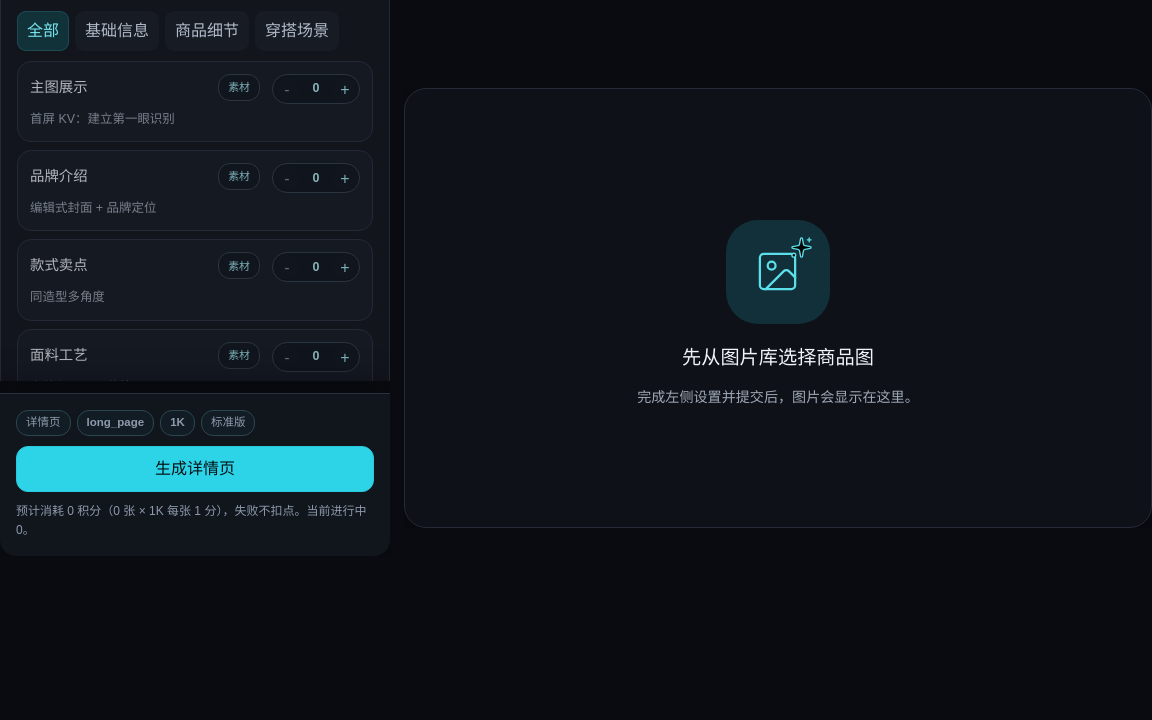
Test: Workspace › asks for a product image before selecting detail page modules
(page scrolled)
Click the button with aria-label "品牌介绍 编辑式封面 + 品牌定位".
click(59, 176)  # box 17,150 -> 373,231
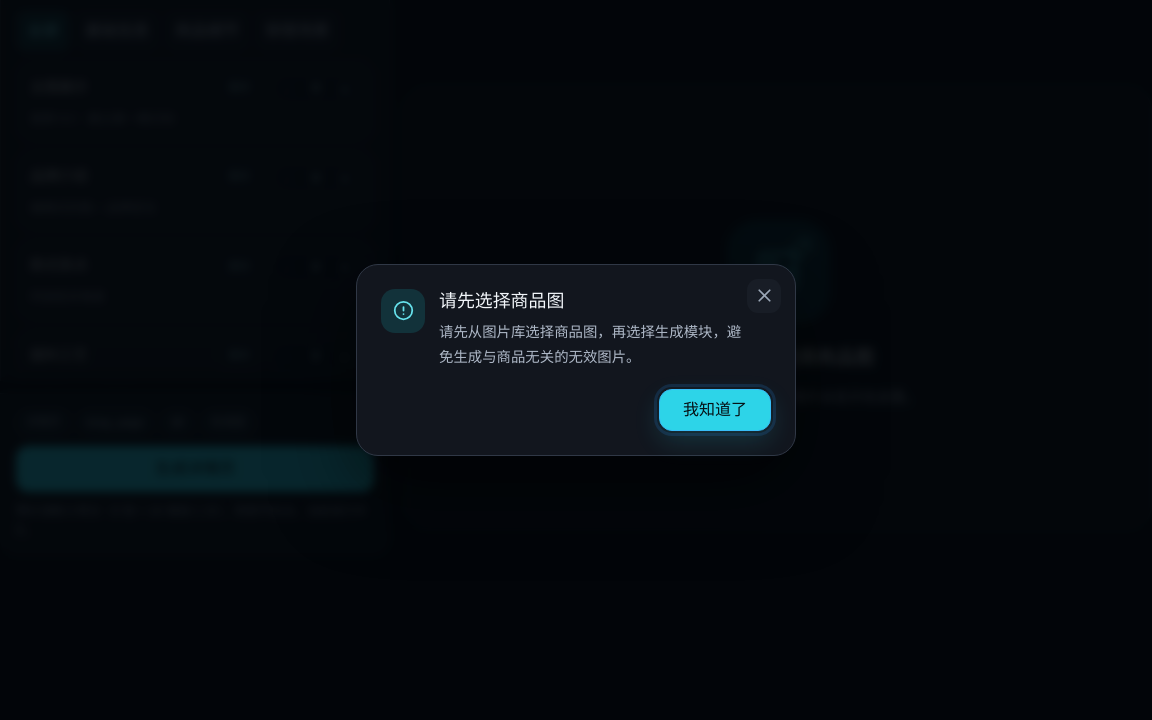
Click the button "我知道了".
click(715, 410)  # box 659,389 -> 771,431
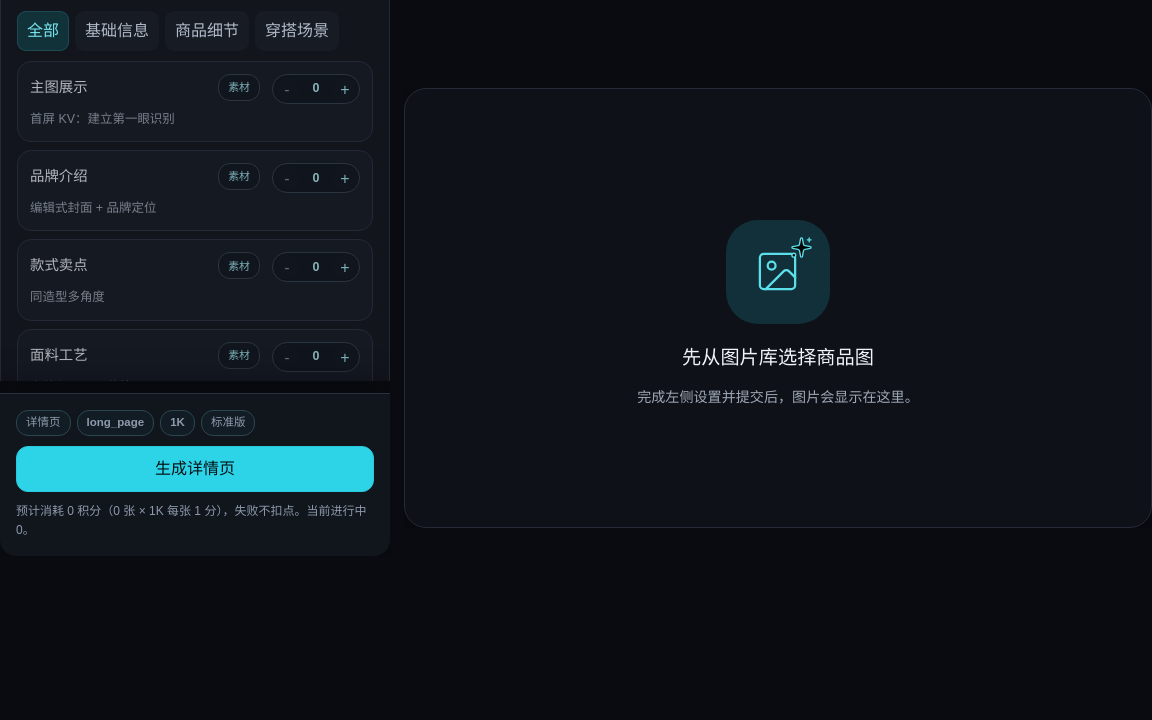
Click the button named "品牌介绍 增加 1 张".
click(345, 178)  # box 333,166 -> 357,190
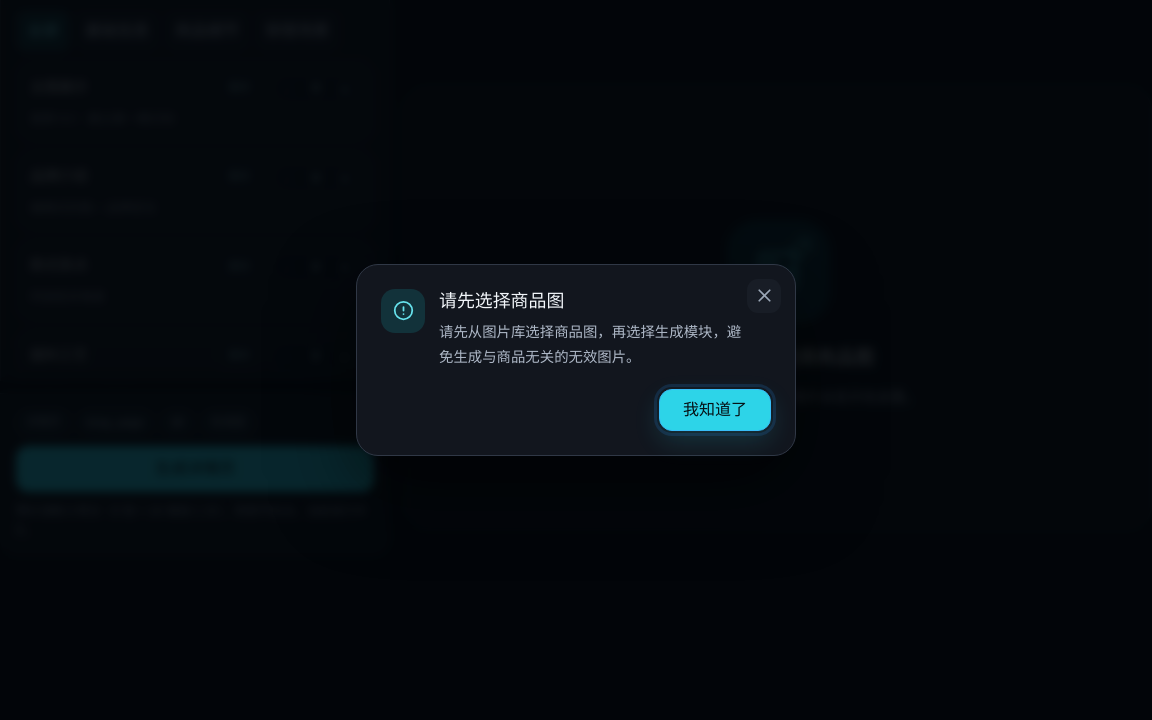
Check: the dialog "请先选择商品图" is shown, box 356,264 -> 796,456
